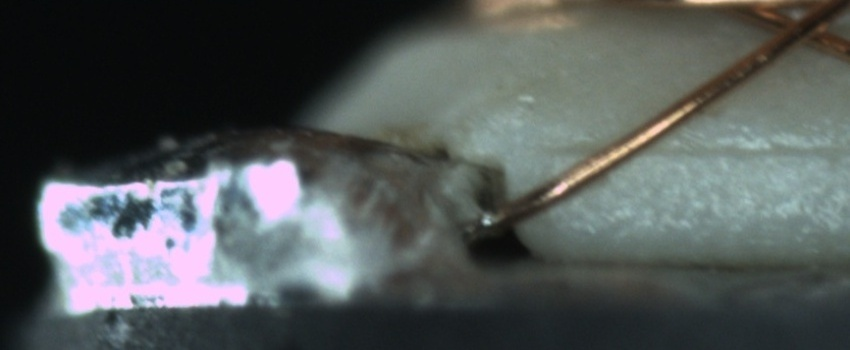CL: (762, 3, 841, 55)
DL: (546, 117, 849, 179)
